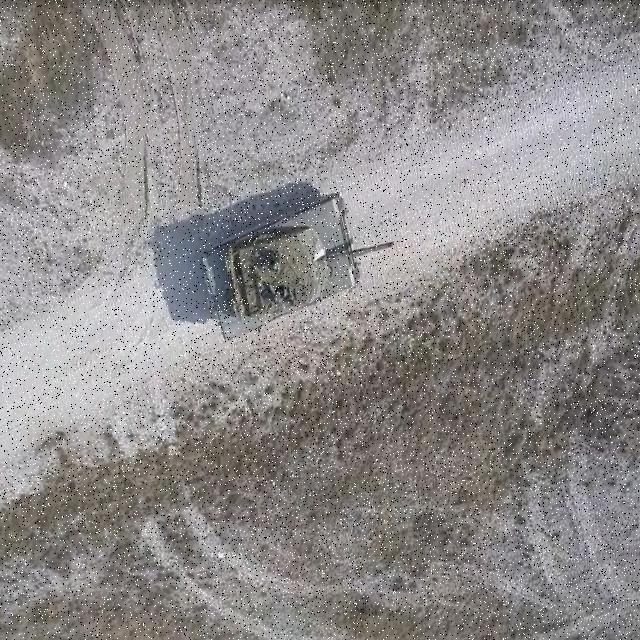MIL_MBT: (197, 188, 395, 348)
